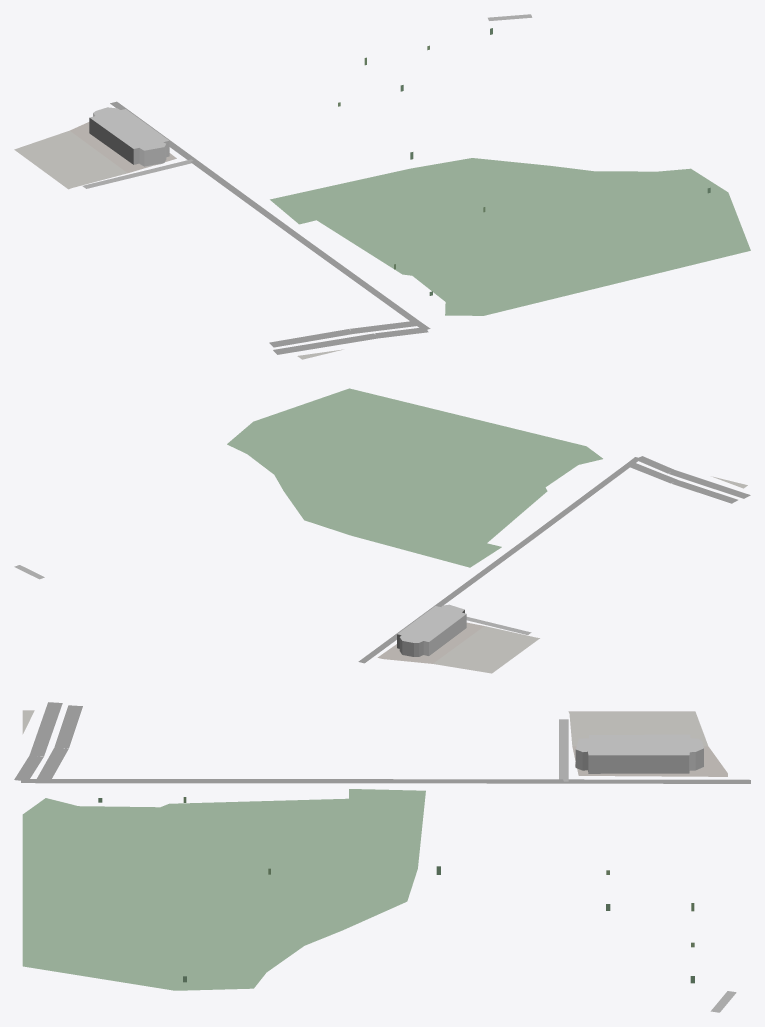
The picture shows the model from 3 angles, top to bottom: view 1: azimuth 30°, elevation 25°; view 2: azimuth 150°, elevation 25°; view 3: azimuth 270°, elevation 25°; orthographic projection. The views are drawn at different scales.
Size of the model in its own units: 517 by 15.31 by 522.
